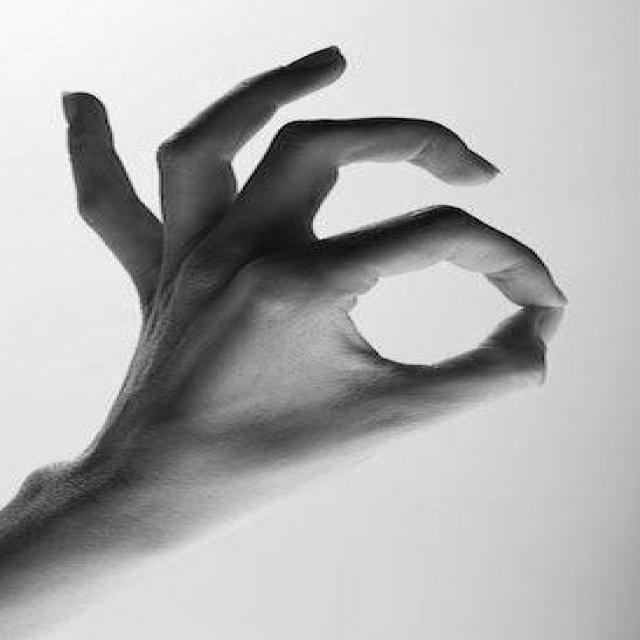perfect: (27, 36, 582, 558)
